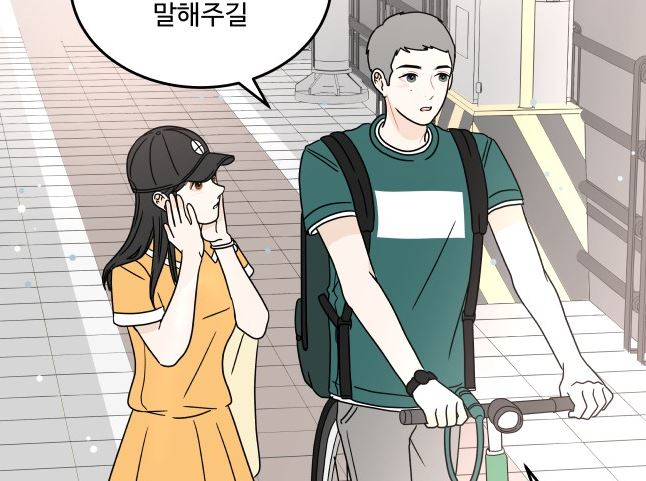hat: (125, 125, 234, 186)
